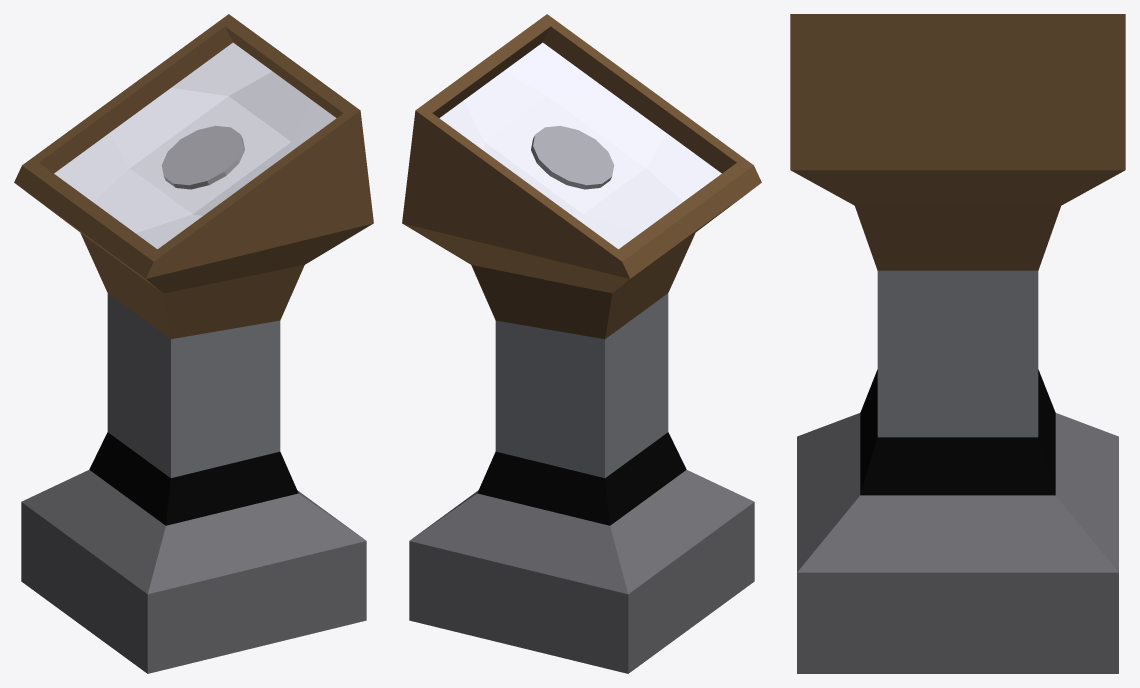
The model's file is gemStand.fbx.
3 views of the same model, side by side, from view 1: azimuth 30°, elevation 25°; view 2: azimuth 150°, elevation 25°; view 3: azimuth 270°, elevation 25° (orthographic). The views are drawn at different scales.
Parts seen in each view (by area): view 1: Cylinder; view 2: Cylinder; view 3: Cylinder.
Part boxes in pixels (box(x1,y1,x2,y2)): Cylinder: box(14, 14, 373, 673); Cylinder: box(402, 14, 761, 673); Cylinder: box(790, 14, 1125, 673).
Size of the model in its own units: 60 by 129 by 60.
1 material, 1 textured.
